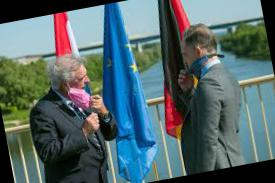mask_weared_incorrect: (76, 69, 98, 108), (176, 46, 200, 74)
